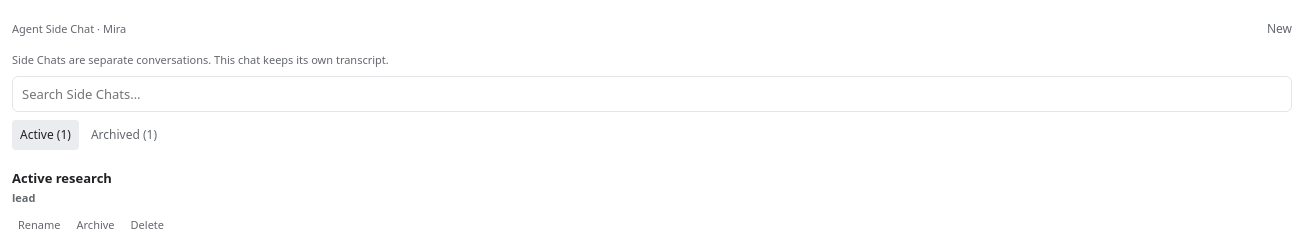
Scenario: SideChatList › searches titles and reports an empty result without crossing owners
The width and height of the screenshot is (1304, 246).
Step 1. Type "active" into the search field named "Search Mira Side Chats" → {"x": 652, "y": 94}, box [12,76,1292,112]
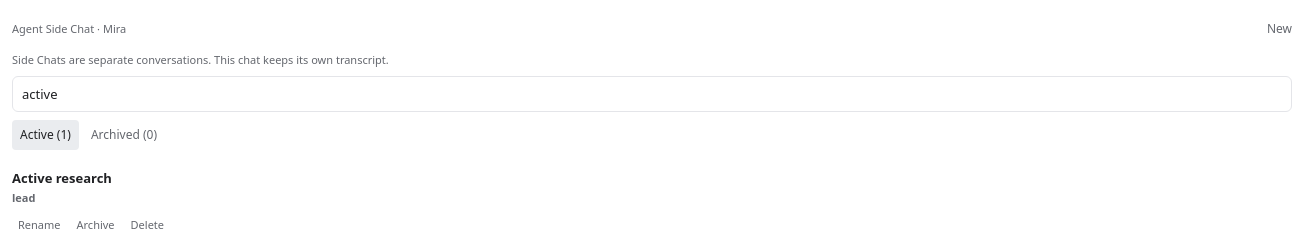
Expected: the text "Active research" is shown, [12,169,112,187]
Step 2. Replace the text in the search field named "Search Mira Side Chats" with "nothing" → {"x": 652, "y": 94}, box [12,76,1292,112]
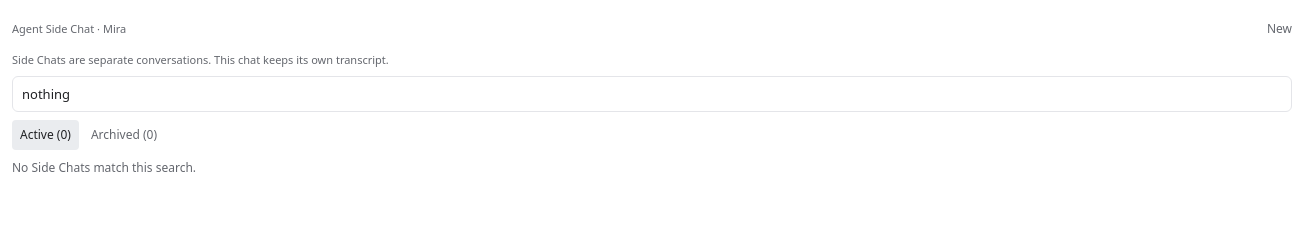
Expected: the text "No Side Chats match this search." is shown, [12,159,196,176]
